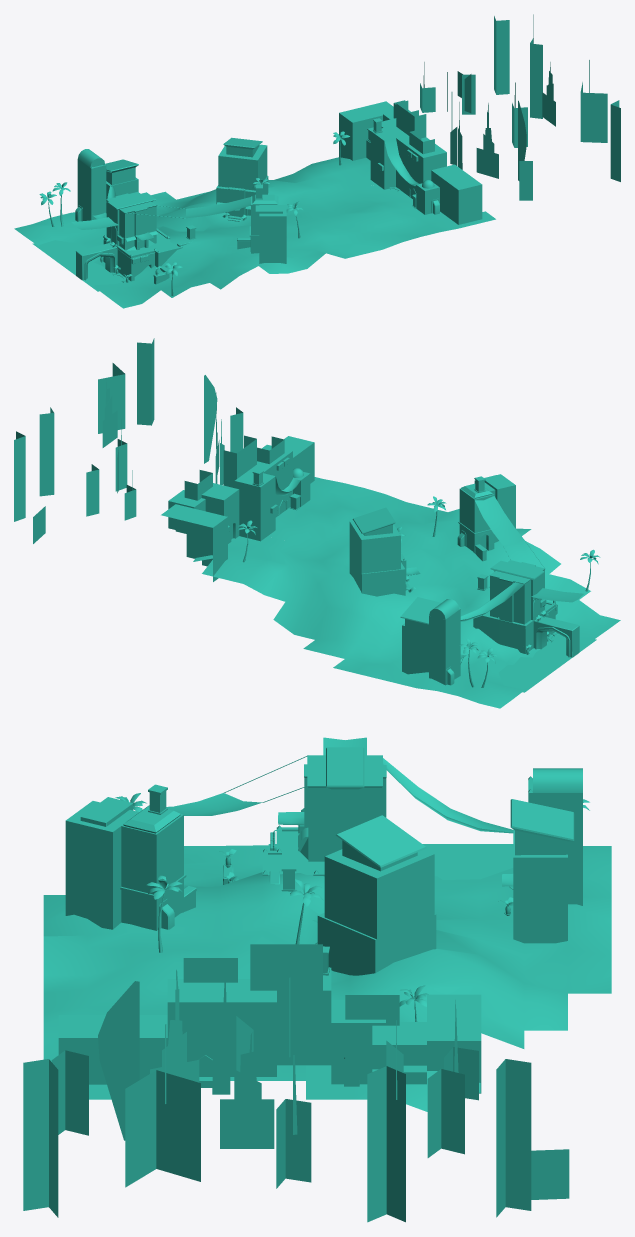
3 renders of one model, top to bottom at view 1: azimuth 30°, elevation 25°; view 2: azimuth 150°, elevation 25°; view 3: azimuth 270°, elevation 25°, orthographic. The views are drawn at different scales.
Parts seen in each view (by area): view 1: n; view 2: n; view 3: n.
Part boxes in pixels (box(x1,y1,x2,y2)): n: box(14, 14, 620, 308); n: box(14, 338, 620, 708); n: box(23, 737, 611, 1222).
Size of the model in its own units: 132908 by 38118 by 71144.
